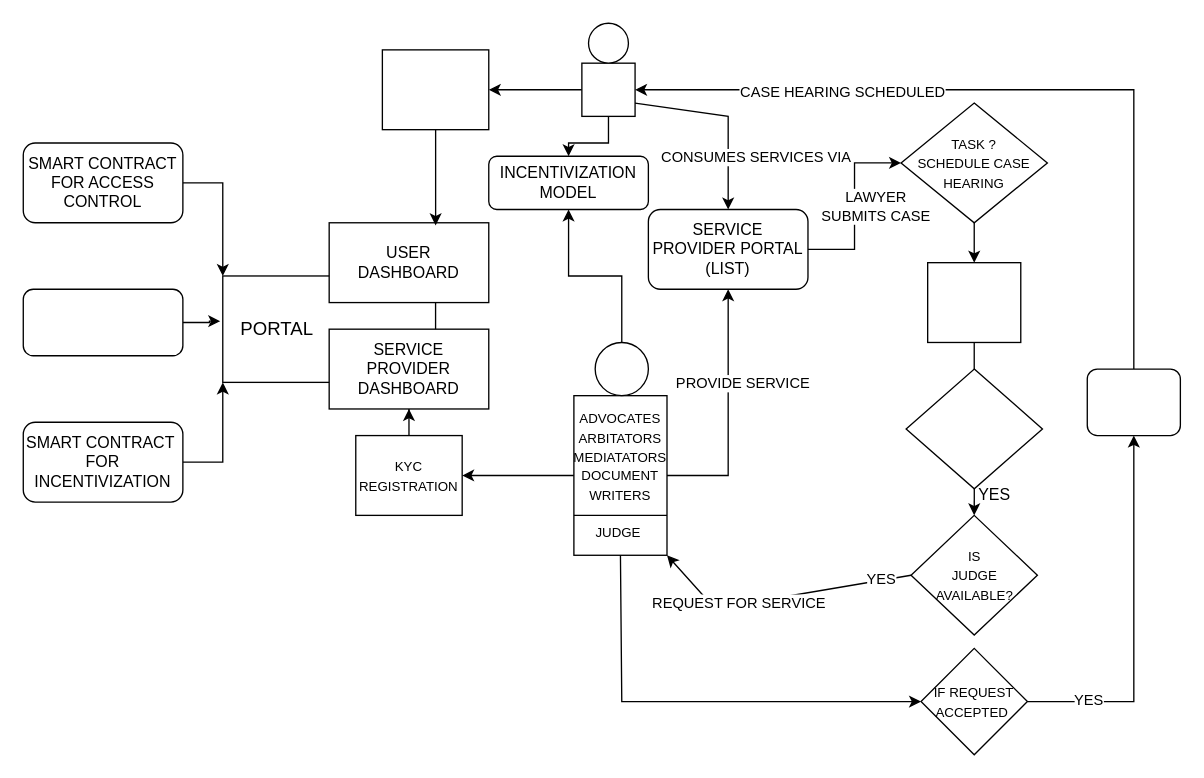
Image size: 1204x778. Some labels were removed from this diagram. The shapes that lost their labels are listed below. From the top down, each one's centre as x and y in pixels, then its label:
At (x=435, y=89): "LOGIN / SIGNUP".
At (x=608, y=89): "USER".
At (x=973, y=301): "CASE CLASSIFY DOMAIN".
At (x=102, y=322): "SMART CONTRACT FOR AUTHENTICATION".
At (x=1133, y=402): "NOTIFICATION".
At (x=973, y=428): "Case Domain match with Judge expertise".
